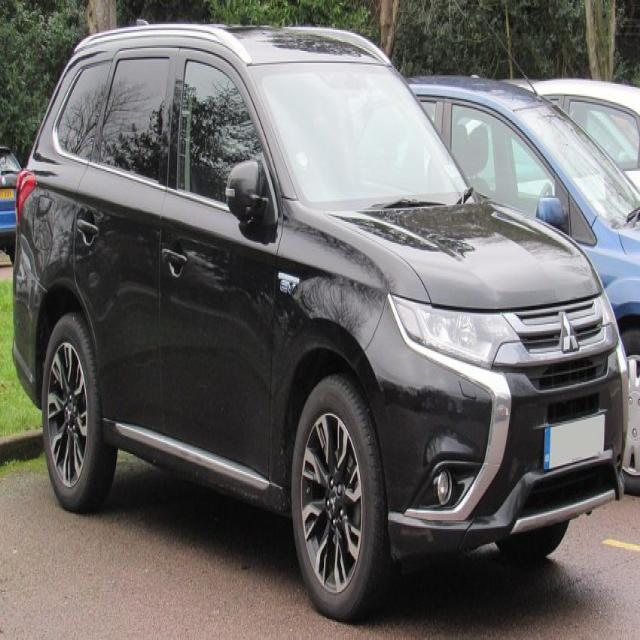light_vehicle: (11, 19, 626, 620)
